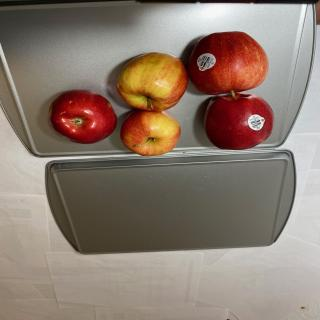Apple: (188, 31, 269, 95), (116, 52, 189, 112), (203, 92, 274, 150), (47, 89, 117, 144), (120, 110, 181, 156)
